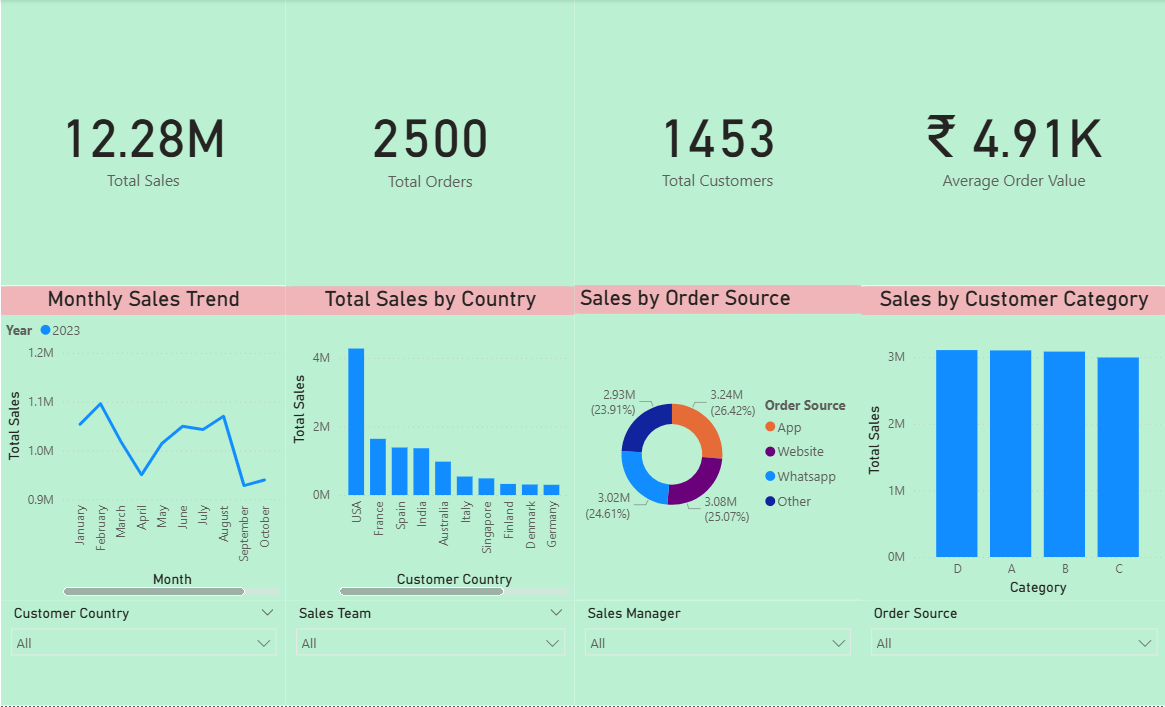

This screenshot's page, from the dashboard's own definition file:
{"tool":"powerbi","page":{"name":"Executive Sales Dashboard","canvas":[1280,720],"ordinal":1},"visuals":[{"type":"card","fields":{"Values":["Orders.Total Sales"]},"box":[10.2,0,289.9,291.1],"z":0},{"type":"card","fields":{"Values":["Orders.Total Orders"]},"box":[300,0,293.7,292.4],"z":1000},{"type":"card","fields":{"Values":["Orders.Total Customers"]},"box":[593.7,0,291.1,291.1],"z":2000},{"type":"card","fields":{"Values":["Orders.Average Order Value"]},"box":[884.9,0,311.5,291.1],"z":3000},{"type":"lineChart","title":"Monthly Sales Trend","fields":{"Y":["Orders.Total Sales"],"Series":["Date Table.Year"],"Category":["Date Table.Month"]},"box":[10.2,292.4,289.9,319.1],"z":4000},{"type":"clusteredColumnChart","title":"Total Sales by Country","fields":{"Category":["Orders.Customer Country"],"Y":["Orders.Total Sales"]},"box":[300,292.4,293.7,319.1],"z":5000},{"type":"donutChart","title":"Sales by Order Source","fields":{"Category":["Orders.Order Source"],"Y":["Orders.Total Sales"]},"box":[593.7,291.1,291.1,320.4],"z":6000},{"type":"clusteredColumnChart","title":"Sales by Customer Category","fields":{"Category":["Customers.Category"],"Y":["Orders.Total Sales"]},"box":[884.9,292.4,311.5,319.1],"z":7000},{"type":"slicer","title":"country","fields":{"Values":["Orders.Customer Country"]},"box":[10.2,611.5,289.9,108.1],"z":8000},{"type":"slicer","fields":{"Values":["Sales Targets.Sales Manager"]},"box":[593.7,611.5,291.1,108.1],"z":9000},{"type":"slicer","fields":{"Values":["Sales Targets.Sales Team"]},"box":[300,611.5,293.7,108.1],"z":10000},{"type":"slicer","fields":{"Values":["Orders.Order Source"]},"box":[884.9,611.5,311.5,108.1],"z":11000},{"type":"actionButton","box":[1207.8,452.6,72.5,39.4],"z":11001}]}

Visuals, with their boxes on the page's 1280x720 design canvas (x1, y1, x2, y2). These are canvas units, not pixel positions in the 1165x707 screenshot, which may show the page scaled, cropped or inside an application window:
card - Orders.Total Sales: Rect(10, 0, 300, 291)
card - Orders.Total Orders: Rect(300, 0, 594, 292)
card - Orders.Total Customers: Rect(594, 0, 885, 291)
card - Orders.Average Order Value: Rect(885, 0, 1196, 291)
"Monthly Sales Trend" lineChart: Rect(10, 292, 300, 612)
"Total Sales by Country" clusteredColumnChart: Rect(300, 292, 594, 612)
"Sales by Order Source" donutChart: Rect(594, 291, 885, 612)
"Sales by Customer Category" clusteredColumnChart: Rect(885, 292, 1196, 612)
"country" slicer: Rect(10, 612, 300, 720)
slicer - Sales Targets.Sales Manager: Rect(594, 612, 885, 720)
slicer - Sales Targets.Sales Team: Rect(300, 612, 594, 720)
slicer - Orders.Order Source: Rect(885, 612, 1196, 720)
actionButton: Rect(1208, 453, 1280, 492)
